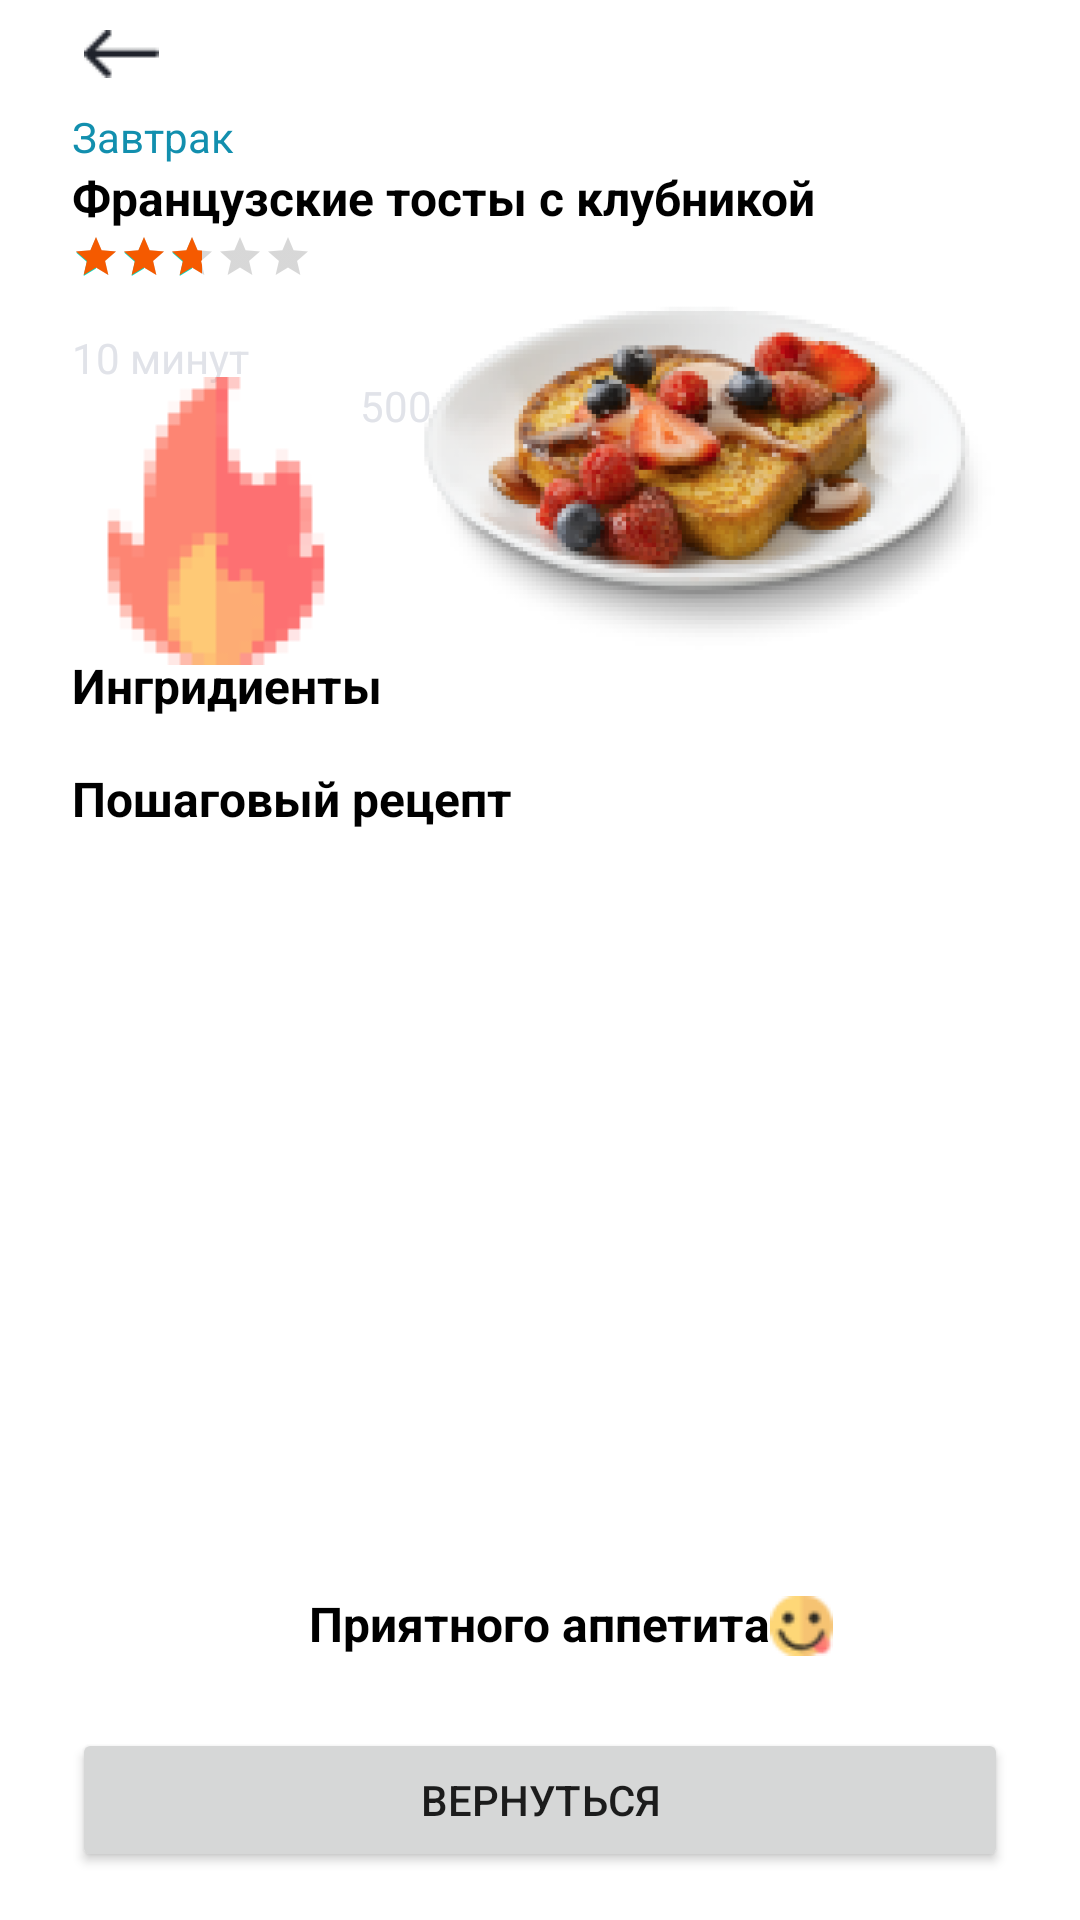

Locate icon controls on the screen. Image size 1080px x 1920px, boxes as bbox(x1, y1, x2, y2).
back: bbox(84, 30, 159, 78)
fire: bbox(107, 377, 325, 665)
smile: bbox(770, 1596, 833, 1656)
